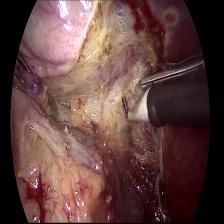Grasper: (14, 50, 63, 139), (138, 54, 204, 94)
Hook: (118, 83, 149, 129)
